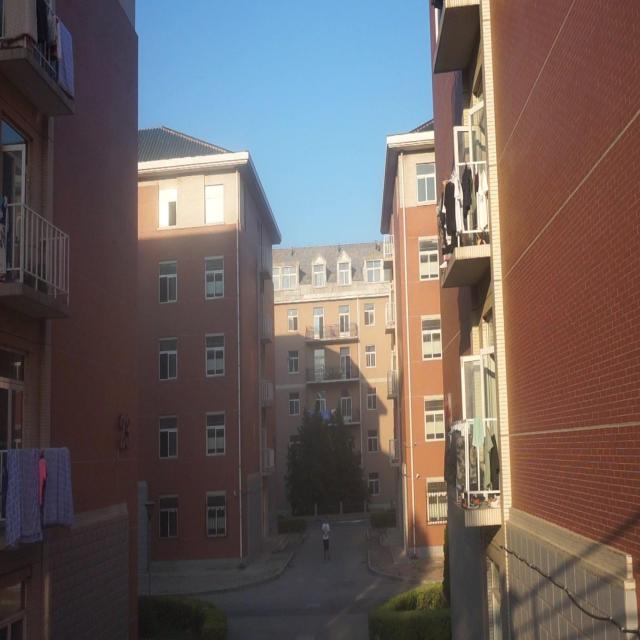UAV: (287, 356, 292, 362)
